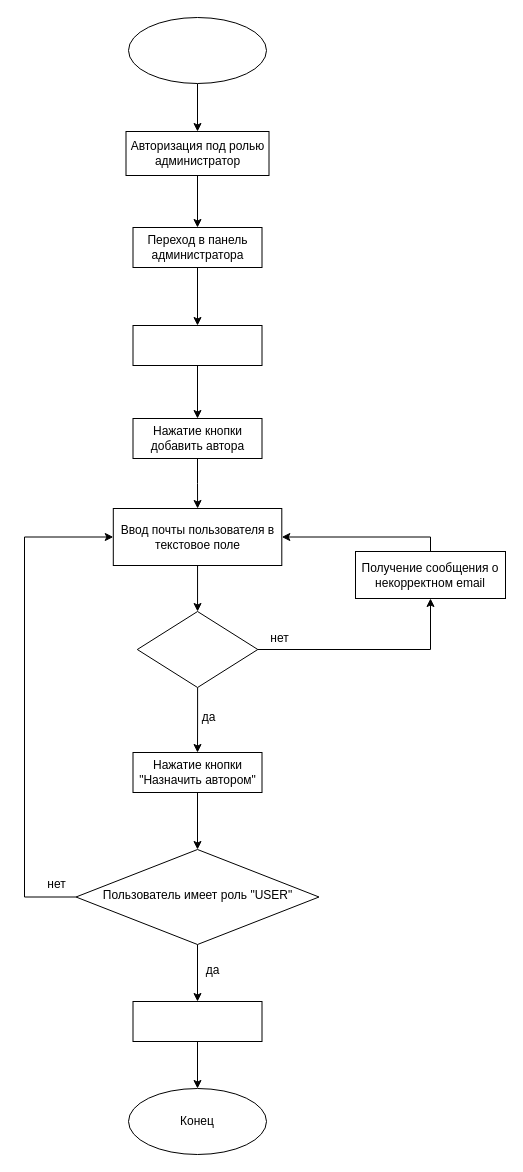
Some shapes in this 523 by 1172 pixel diagram are drawn without their labels. The shapes that lost their labels are listed below. From the top down, each one's box as (x1, y1, x2, y2) in pixels, then its label:
(128, 16, 266, 84): Начало
(132, 324, 262, 366): Переход в панель авторов
(136, 610, 258, 688): Почта валидна
(132, 1000, 262, 1042): Пользователь назначен автором
